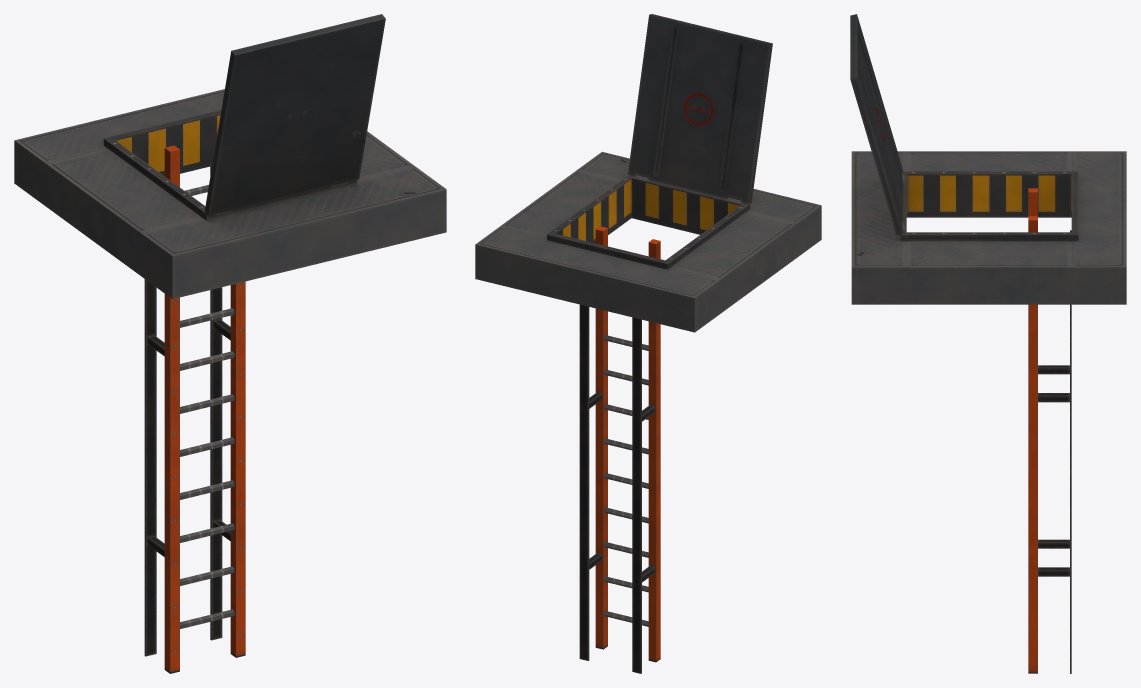
The model's file is deck_hatch.glb.
The picture shows the model from 3 angles, left to right: view 1: azimuth 30°, elevation 25°; view 2: azimuth 150°, elevation 25°; view 3: azimuth 270°, elevation 25°; orthographic projection. The views are drawn at different scales.
Visible parts, largest first — view 1: deck_hatch; view 2: deck_hatch; view 3: deck_hatch.
Part boxes in pixels (bbox=[...]): deck_hatch: bbox=[14, 14, 446, 673]; deck_hatch: bbox=[475, 14, 821, 673]; deck_hatch: bbox=[850, 14, 1126, 673].
Bounding box in the file's own units: 2 × 4.91 × 2.01.
Materials: 1 (1 with a texture image).
